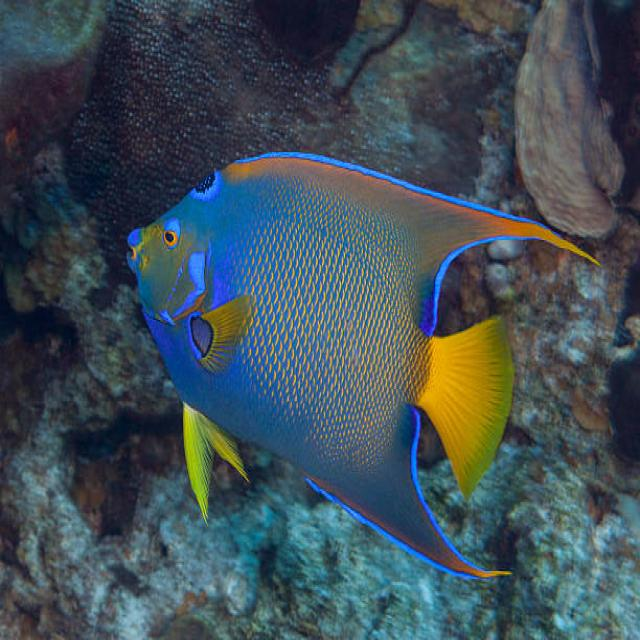AngelFish: (131, 152, 601, 572)
